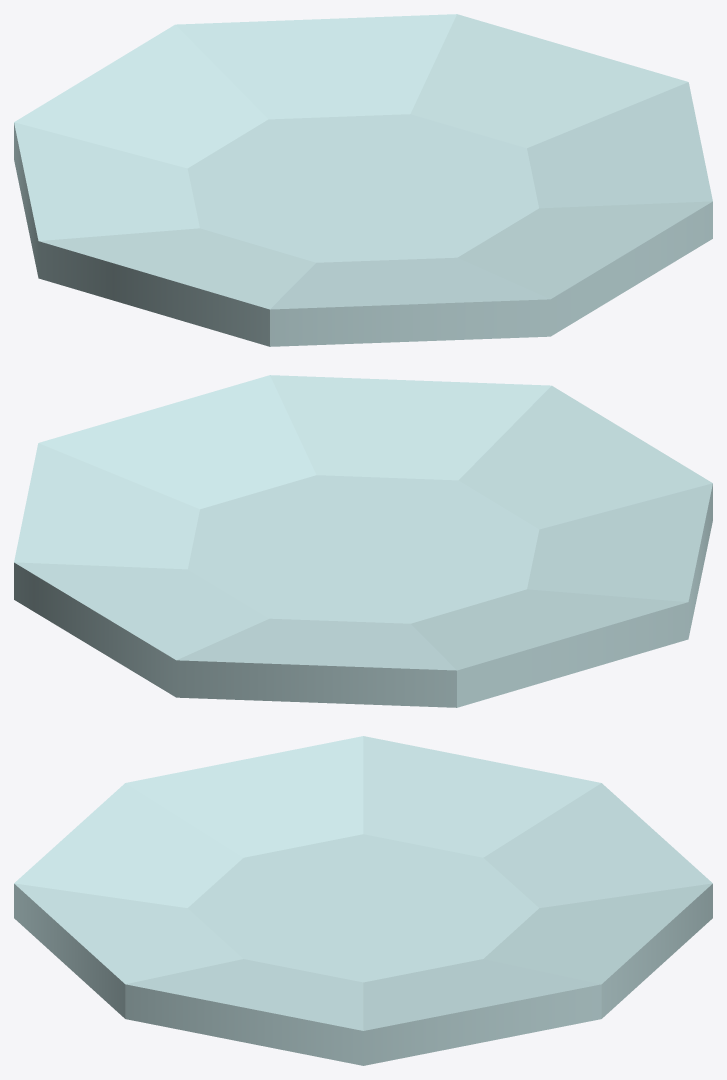
The model's file is Itr_Obj_dish2_04.FBX.
3 views of the same model, one above another, from view 1: azimuth 30°, elevation 25°; view 2: azimuth 150°, elevation 25°; view 3: azimuth 270°, elevation 25° (orthographic). The views are drawn at different scales.
Parts seen in each view (by area): view 1: Itr_Obj_dish2_04; view 2: Itr_Obj_dish2_04; view 3: Itr_Obj_dish2_04.
Boxes of the visible parts, <box> form: Itr_Obj_dish2_04: <box>14,14,712,346</box>; Itr_Obj_dish2_04: <box>14,375,712,707</box>; Itr_Obj_dish2_04: <box>14,736,712,1065</box>.
Bounding box in the file's own units: 9.99 × 0.9449 × 9.99.
